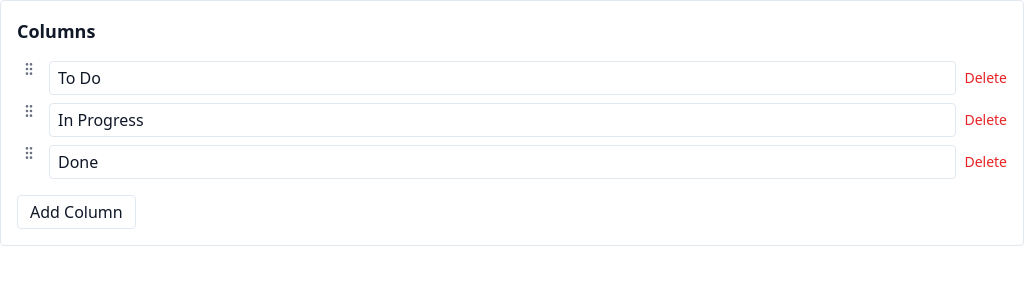
Test case: ProjectColumnsManager › Add Column appends a uuid-id New Column + persists immediately
Check: the number of fields is 3, box [49,61,956,95]; [49,103,956,137]; [49,145,956,179]
Step 1. Click the button "Add Column" → (76, 212), box [17,195,136,229]
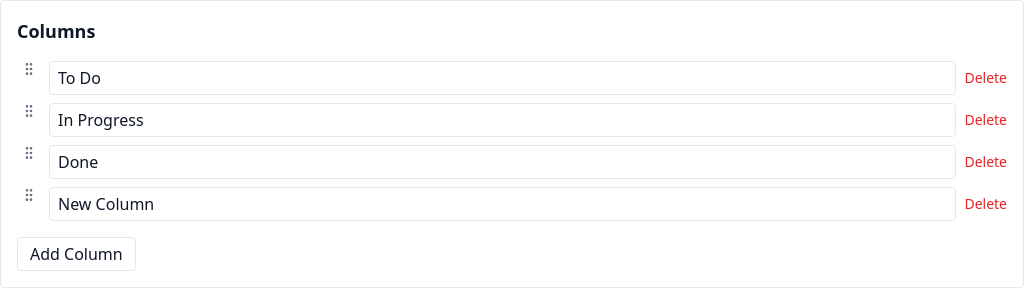
Check: the number of fields is 4, box [49,61,956,95]; [49,103,956,137]; [49,145,956,179]; [49,187,956,221]
Check: the field named "Column 4 name" holds "New Column", box [49,187,956,221]
